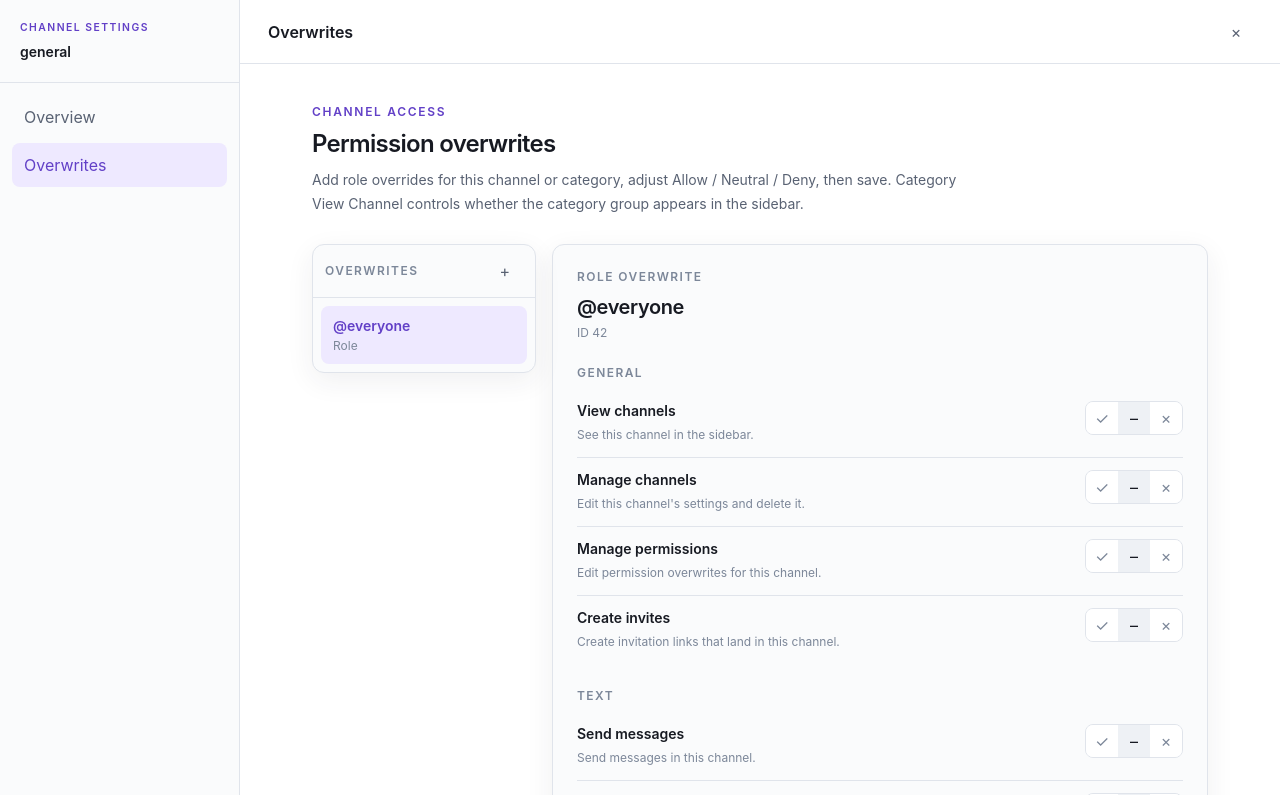
Test: ChannelSettingsPage › marks roles that already have an overwrite as selected and disabled
The width and height of the screenshot is (1280, 795).
Click the button named "Add role overwrite": {"x": 505, "y": 271} [486, 255, 523, 287]
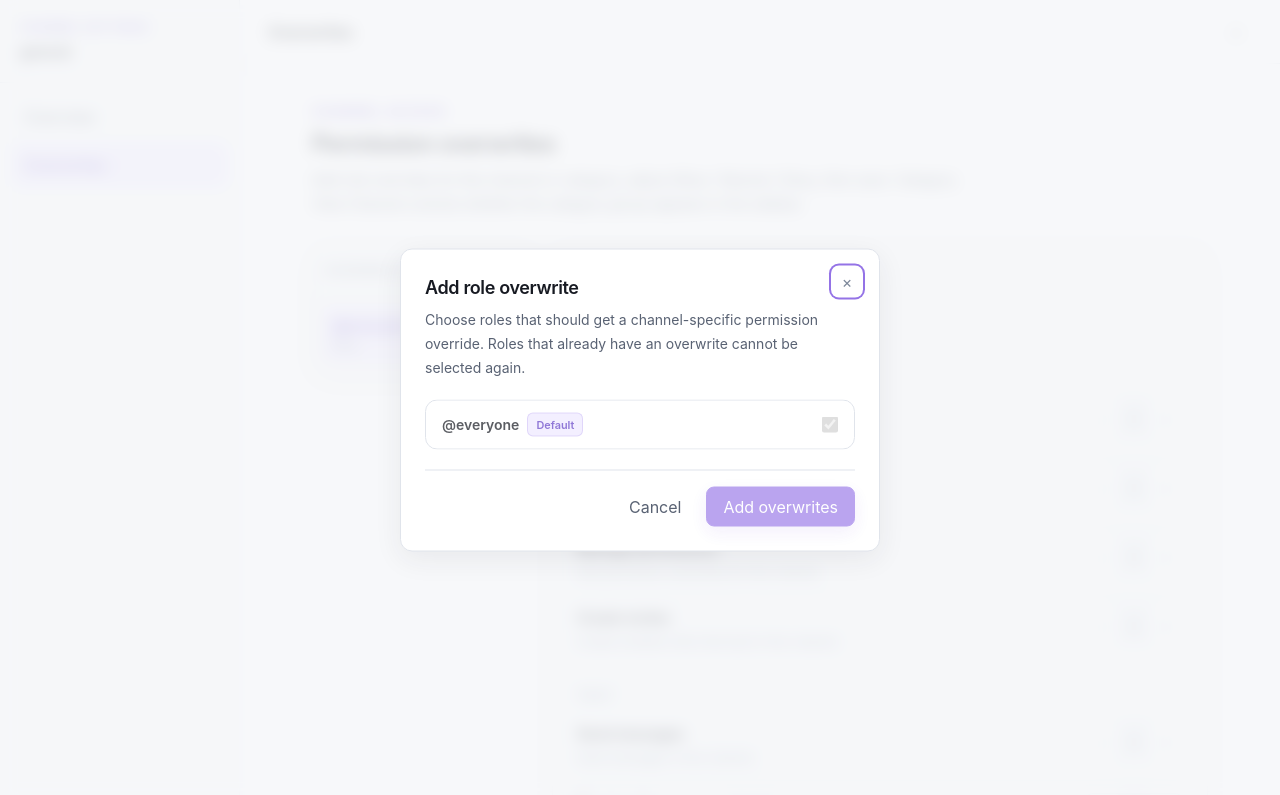
Result: the checkbox named "@everyone already has an overwrite" is checked at [822, 416, 838, 432]
Result: the checkbox named "@everyone already has an overwrite" is disabled at [822, 416, 838, 432]
